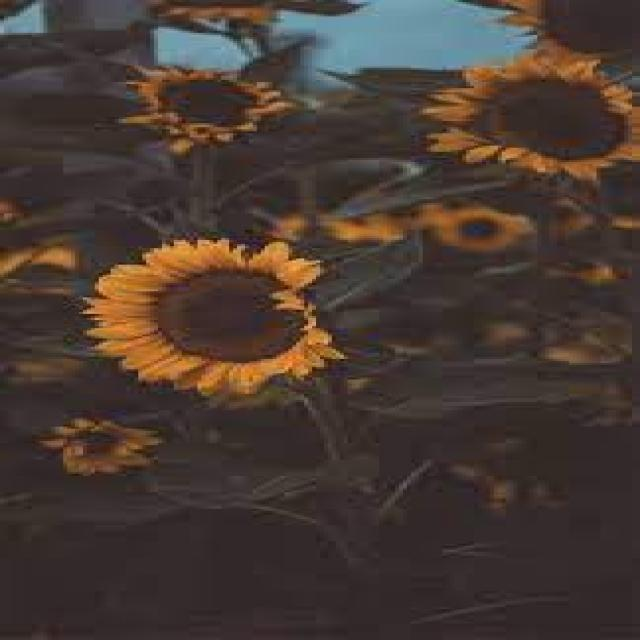sunflower: (79, 236, 344, 396), (418, 54, 636, 181), (116, 64, 304, 154), (498, 0, 636, 62), (36, 416, 162, 476), (0, 246, 75, 328), (432, 205, 534, 252), (145, 0, 273, 25), (328, 211, 403, 244), (547, 198, 595, 239), (544, 262, 611, 282), (270, 211, 308, 238)
